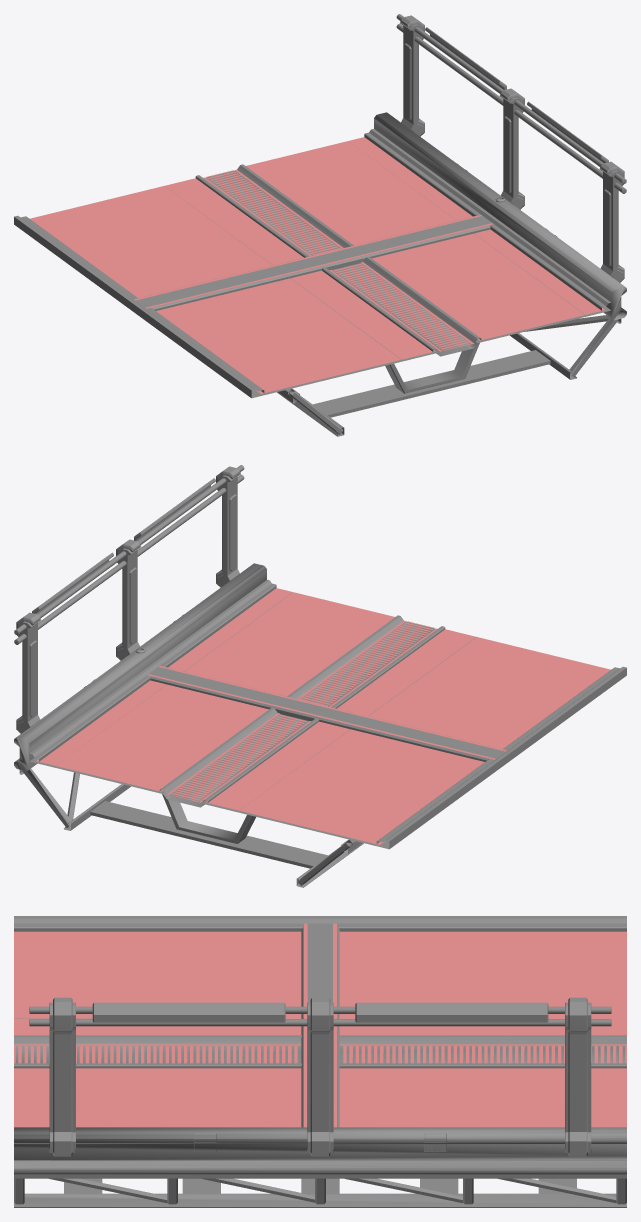
Rendered from SafeTWalkway4.fbx.
3 views of the same model, one above another, from view 1: azimuth 30°, elevation 25°; view 2: azimuth 150°, elevation 25°; view 3: azimuth 270°, elevation 25° (orthographic). The views are drawn at different scales.
Parts seen in each view (by area): view 1: Walkway_T; view 2: Walkway_T; view 3: Walkway_T.
Boxes of the visible parts, x1=… form: Walkway_T: x1=14, y1=14, x2=626, y2=436; Walkway_T: x1=14, y1=465, x2=626, y2=887; Walkway_T: x1=14, y1=916, x2=626, y2=1207.
Bounding box in the file's own units: 378 × 174 × 400.
